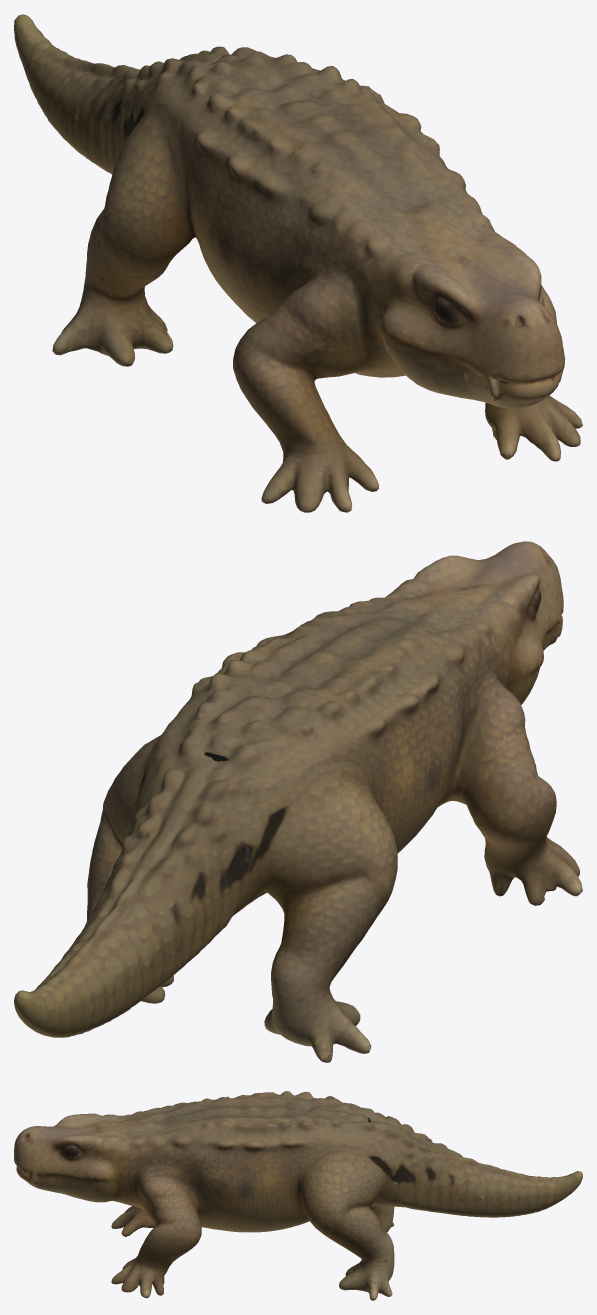
3 renders of one model, top to bottom at view 1: azimuth 30°, elevation 25°; view 2: azimuth 150°, elevation 25°; view 3: azimuth 270°, elevation 25°, orthographic. The views are drawn at different scales.
Parts seen in each view (by area): view 1: world; view 2: world; view 3: world.
Boxes of the visible parts, x1,y1,x2,y2 form: world: [14, 14, 582, 512]; world: [14, 541, 582, 1062]; world: [14, 1091, 582, 1300].
Bounding box in the file's own units: 0.264 × 0.2265 × 0.75.
1 material, 1 textured.
